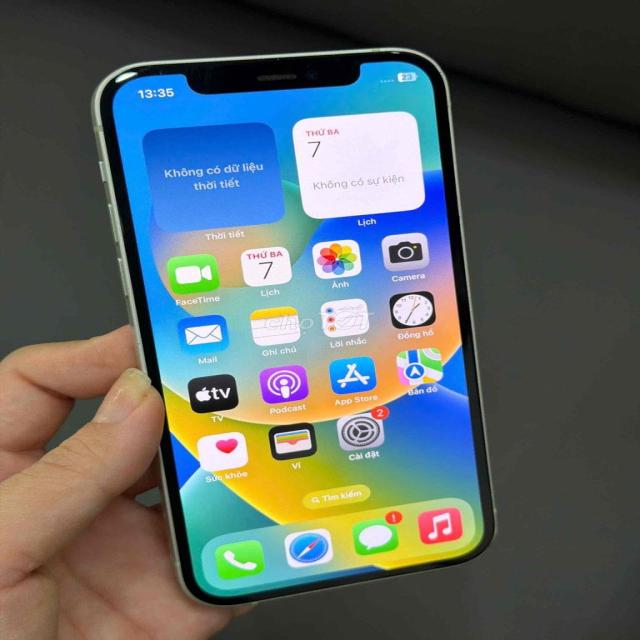gen_12_13: (81, 38, 502, 612)
